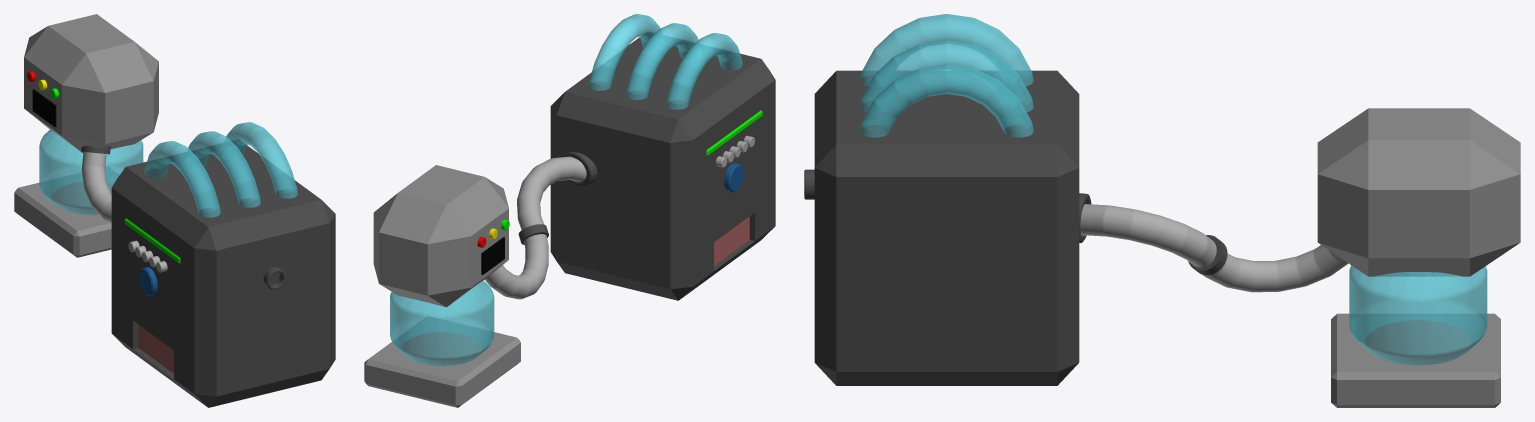
The model's file is life support.fbx.
3 renders of one model, left to right at view 1: azimuth 30°, elevation 25°; view 2: azimuth 150°, elevation 25°; view 3: azimuth 270°, elevation 25°, orthographic. The views are drawn at different scales.
Visible parts, largest first — view 1: pCube6; view 2: pCube6; view 3: pCube6.
Boxes of the visible parts, box(x1,y1,x2,y2) form: pCube6: box(14, 14, 335, 407); pCube6: box(364, 14, 775, 407); pCube6: box(804, 14, 1520, 407).
Bounding box in the file's own units: 1.75 × 2.26 × 4.78.
